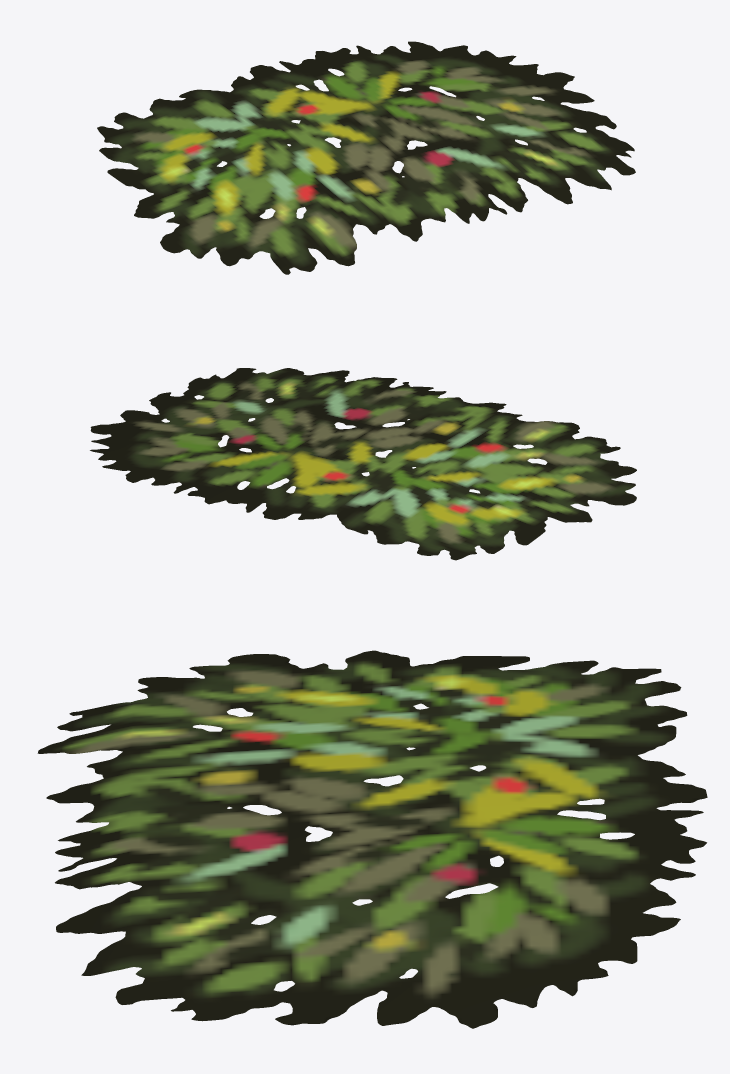
The model's file is foriage05.fbx.
3 renders of one model, top to bottom at view 1: azimuth 30°, elevation 25°; view 2: azimuth 150°, elevation 25°; view 3: azimuth 270°, elevation 25°, orthographic. The views are drawn at different scales.
Parts seen in each view (by area): view 1: foriage05; view 2: foriage05; view 3: foriage05.
Part boxes in pixels (left/top/right/bottom): foriage05: left=97, top=41, right=635, bottom=274; foriage05: left=90, top=368, right=636, bottom=560; foriage05: left=37, top=650, right=707, bottom=1028.
Size of the model in its own units: 2.63 by 0.2019 by 1.95.
